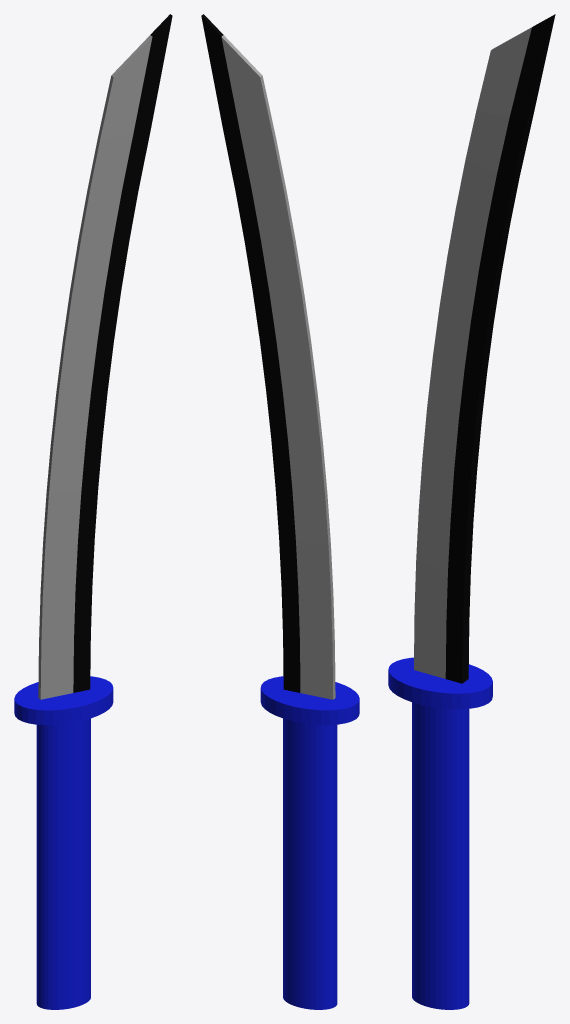
The model's file is ASSETS.fbx_katana.fbx.
The picture shows the model from 3 angles, left to right: view 1: azimuth 30°, elevation 25°; view 2: azimuth 150°, elevation 25°; view 3: azimuth 330°, elevation 25°; orthographic projection. The views are drawn at different scales.
Visible parts, largest first — view 1: katana; view 2: katana; view 3: katana.
Boxes of the visible parts, x1=… form: katana: x1=14, y1=14, x2=172, y2=1009; katana: x1=201, y1=14, x2=359, y2=1009; katana: x1=388, y1=14, x2=555, y2=1009.
Size of the model in its own units: 14.95 by 89.17 by 6.07.
